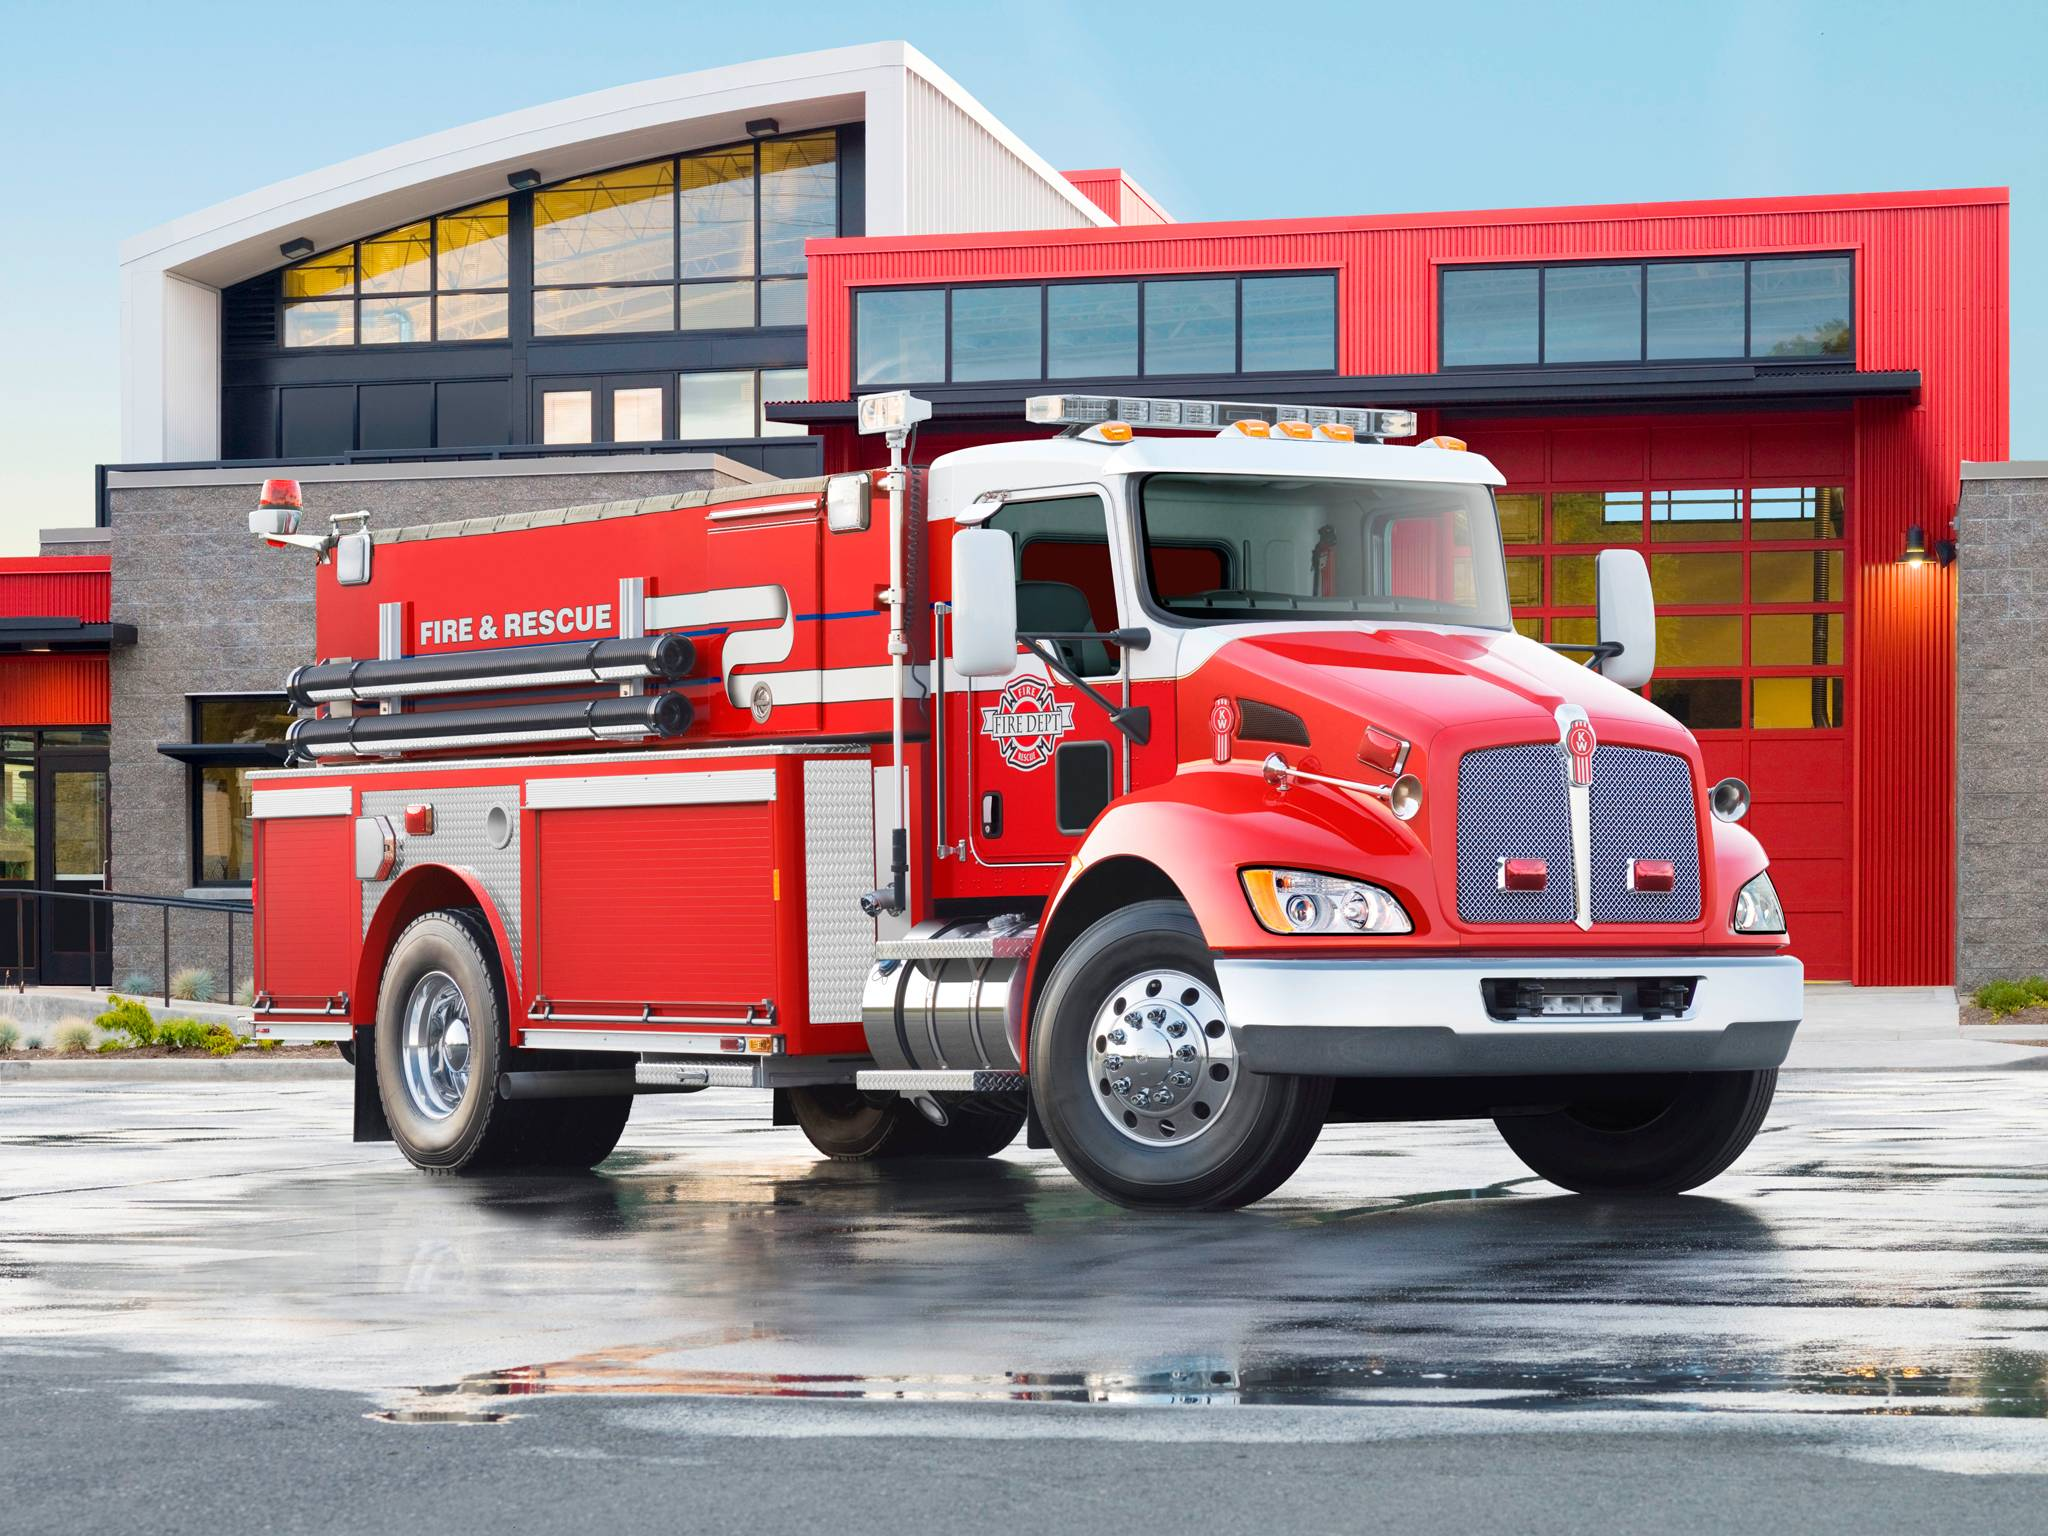special: (239, 402, 1793, 1220)
